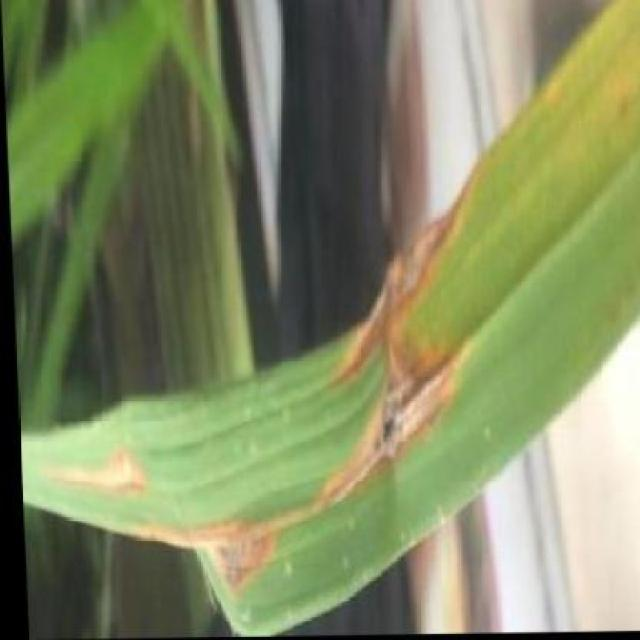Bacterial_Leaf_Blight: (308, 318, 489, 505), (312, 206, 468, 391), (120, 501, 300, 592), (28, 433, 168, 505)
